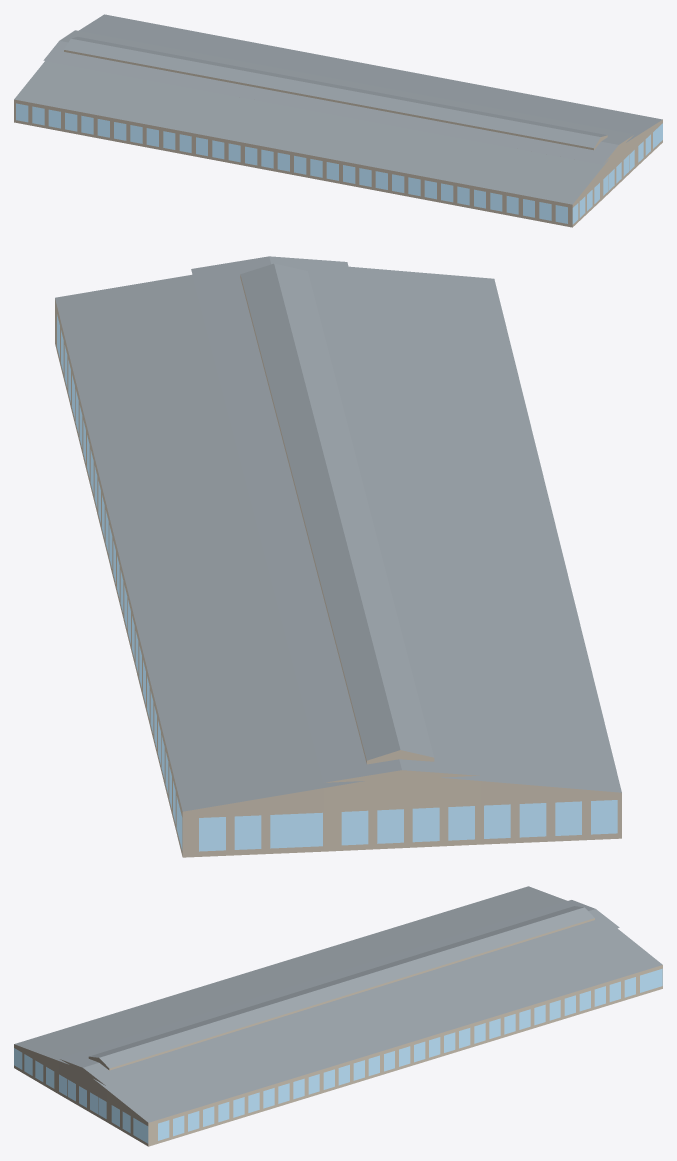
File: detail.glb
3 renders of one model, top to bottom at view 1: azimuth 30°, elevation 25°; view 2: azimuth 150°, elevation 25°; view 3: azimuth 270°, elevation 25°, orthographic. The views are drawn at different scales.
Visible parts, largest first — view 1: roof, stone, window; view 2: roof, stone, window; view 3: roof, stone, window.
Boxes of the visible parts, left/top/right/bottom form: roof: left=14, top=14, right=662, bottom=204; stone: left=14, top=50, right=662, bottom=227; window: left=16, top=103, right=662, bottom=224; roof: left=55, top=256, right=621, bottom=811; stone: left=55, top=275, right=621, bottom=857; window: left=57, top=314, right=617, bottom=851; roof: left=14, top=886, right=662, bottom=1122; stone: left=14, top=918, right=662, bottom=1146; window: left=14, top=968, right=662, bottom=1143.
Bounding box in the file's own units: 213 × 19 × 246.
